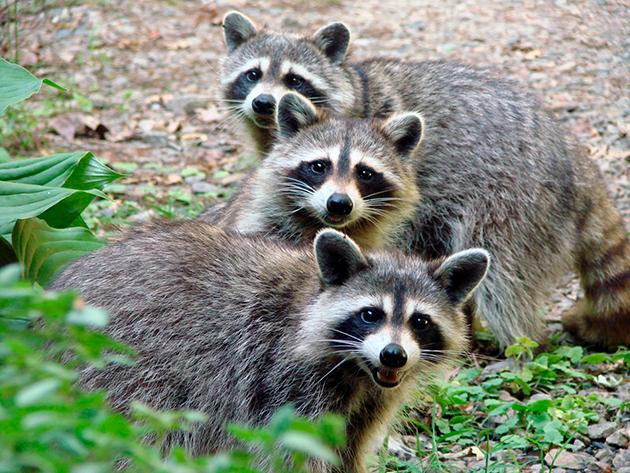raccoon: (218, 10, 630, 342), (25, 227, 491, 473), (232, 95, 426, 234)
